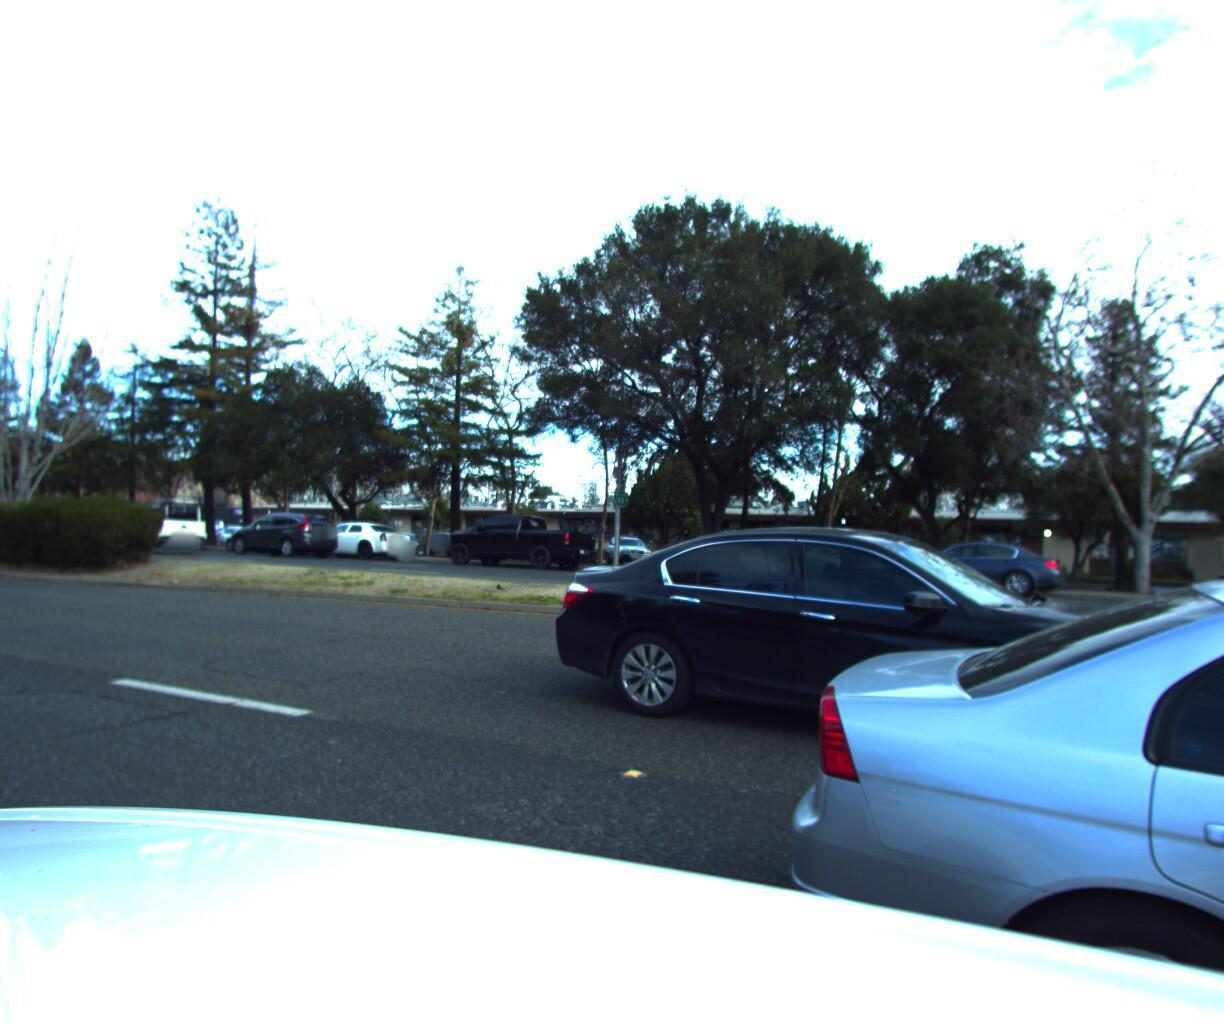car: (661, 539, 1224, 1024), (527, 509, 1182, 795), (869, 531, 1067, 595), (674, 519, 856, 586), (434, 504, 603, 567), (631, 525, 791, 578), (73, 499, 202, 552), (217, 506, 342, 555), (293, 514, 421, 559), (112, 506, 212, 549), (211, 519, 315, 556), (1206, 535, 1224, 622)
